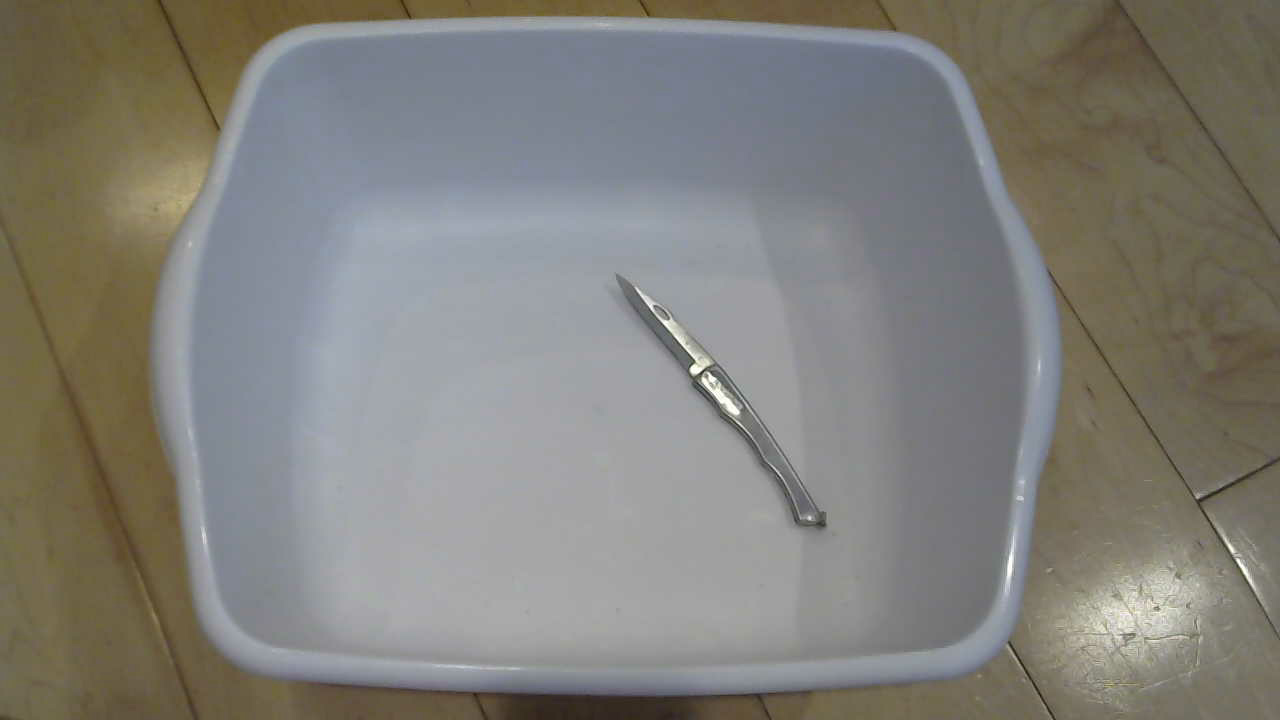knife: (604, 273, 839, 540)
